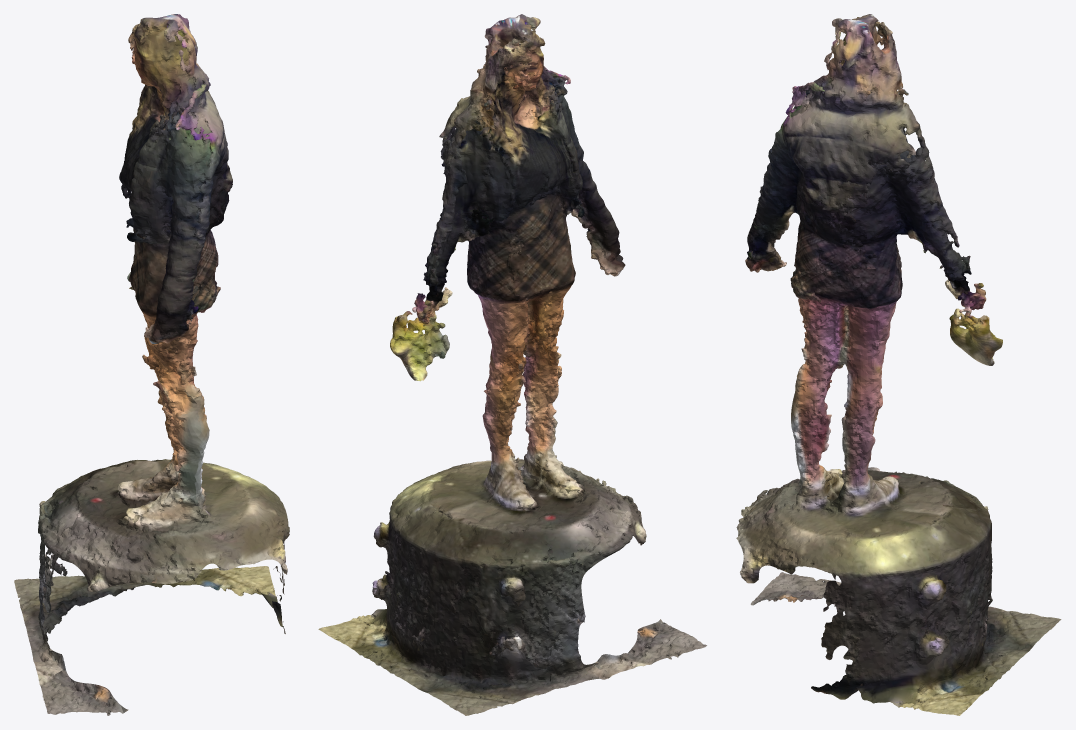
File: mbo_friends_Anna.glb
3 views of the same model, side by side, from view 1: azimuth 30°, elevation 25°; view 2: azimuth 150°, elevation 25°; view 3: azimuth 270°, elevation 25° (orthographic). The views are drawn at different scales.
Size of the model in its own units: 1.13 by 2.23 by 1.03.
1 material, 1 textured.
